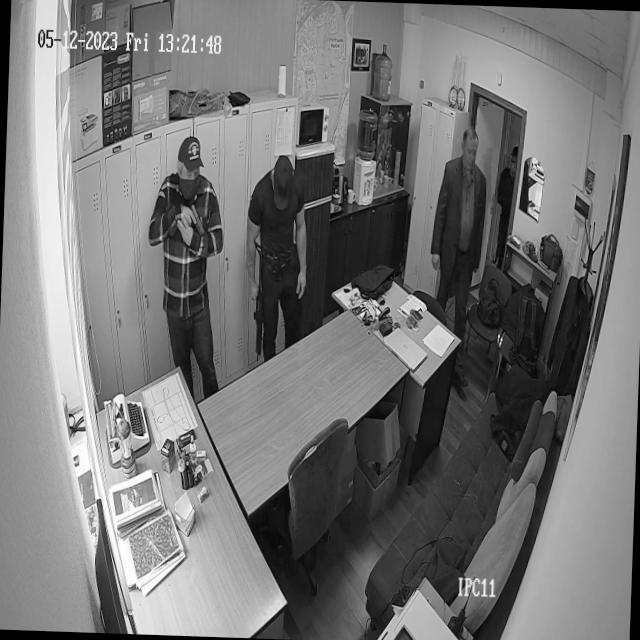gun: (250, 241, 267, 364), (187, 202, 206, 240)
person: (428, 125, 488, 297)
person with a gun: (144, 131, 228, 368), (241, 150, 311, 334)
